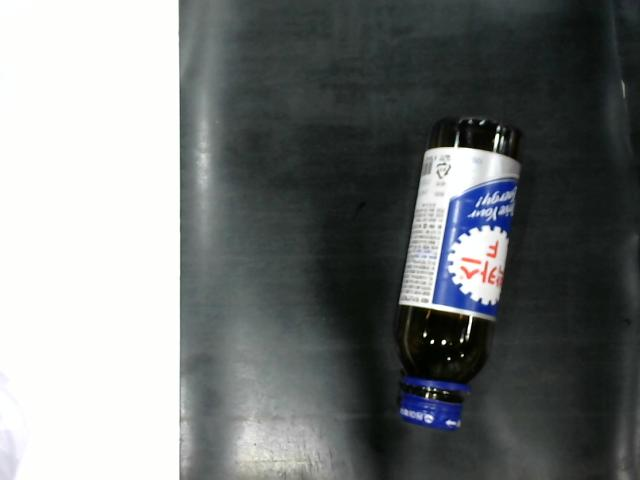glass: (382, 115, 534, 442)
